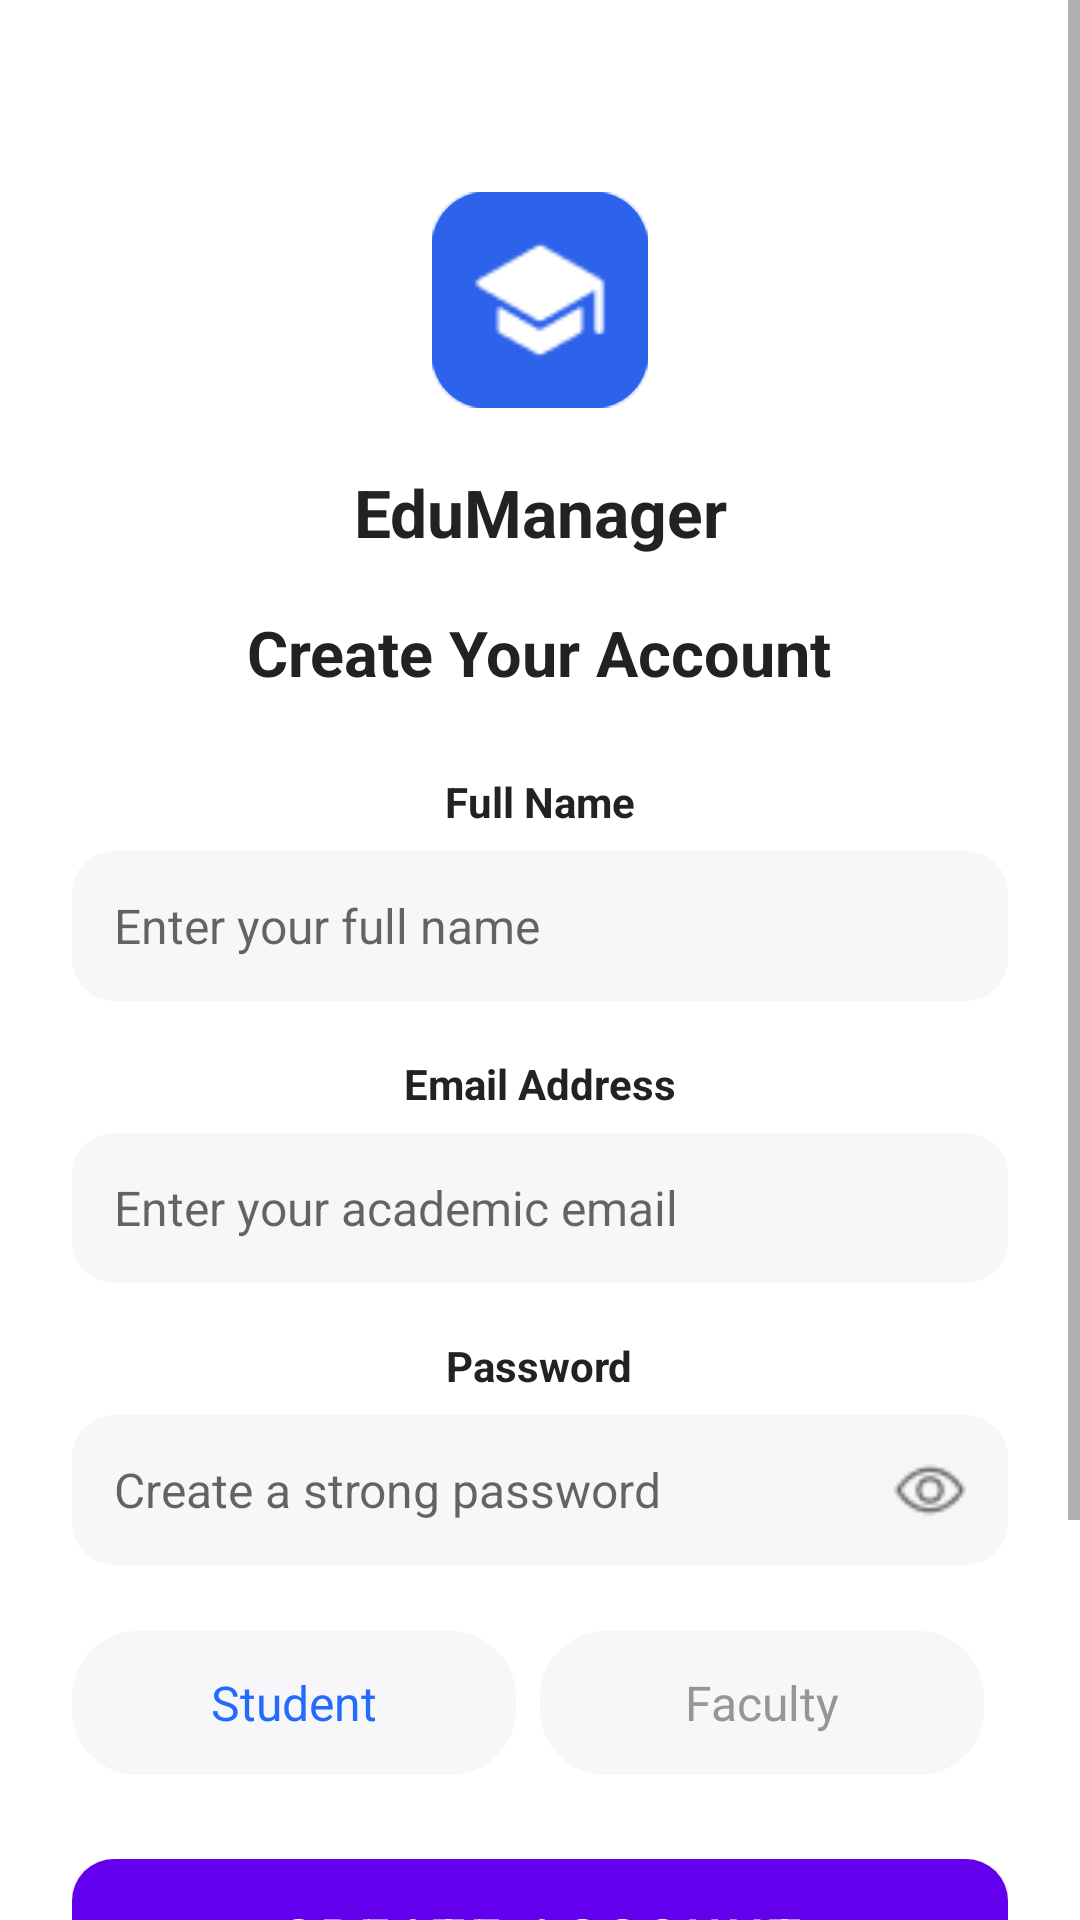

Named icons in this screenshot (1080 x 1920) and their centers, [x,y]:
App Icon: [540,300]
Show Password: [930,1490]
